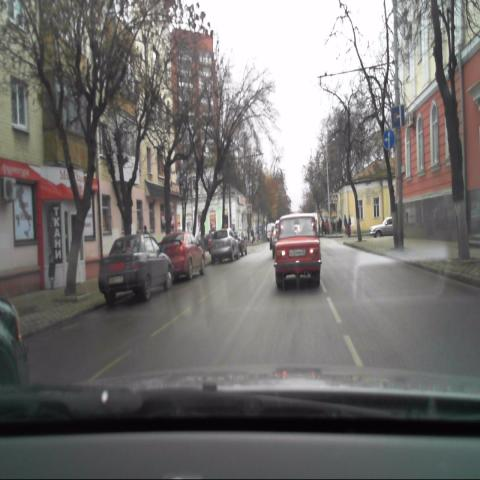4_1_5: (382, 128, 396, 152)
6_8_3: (391, 104, 405, 128)
